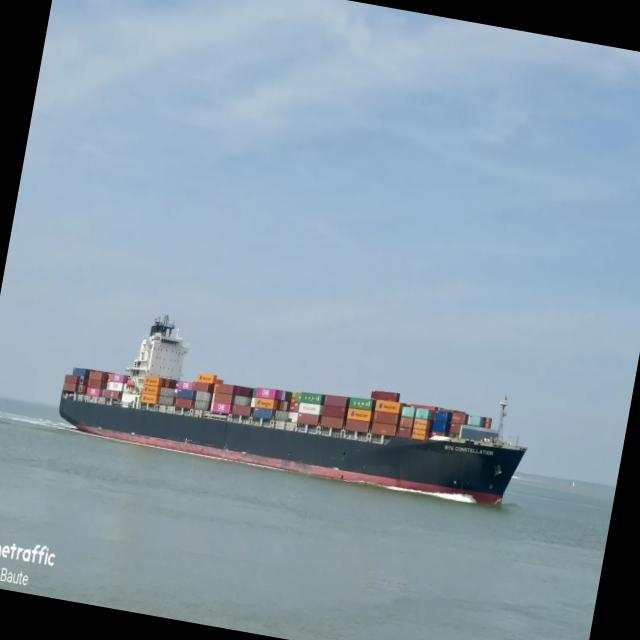Cargo: (59, 315, 525, 504)
